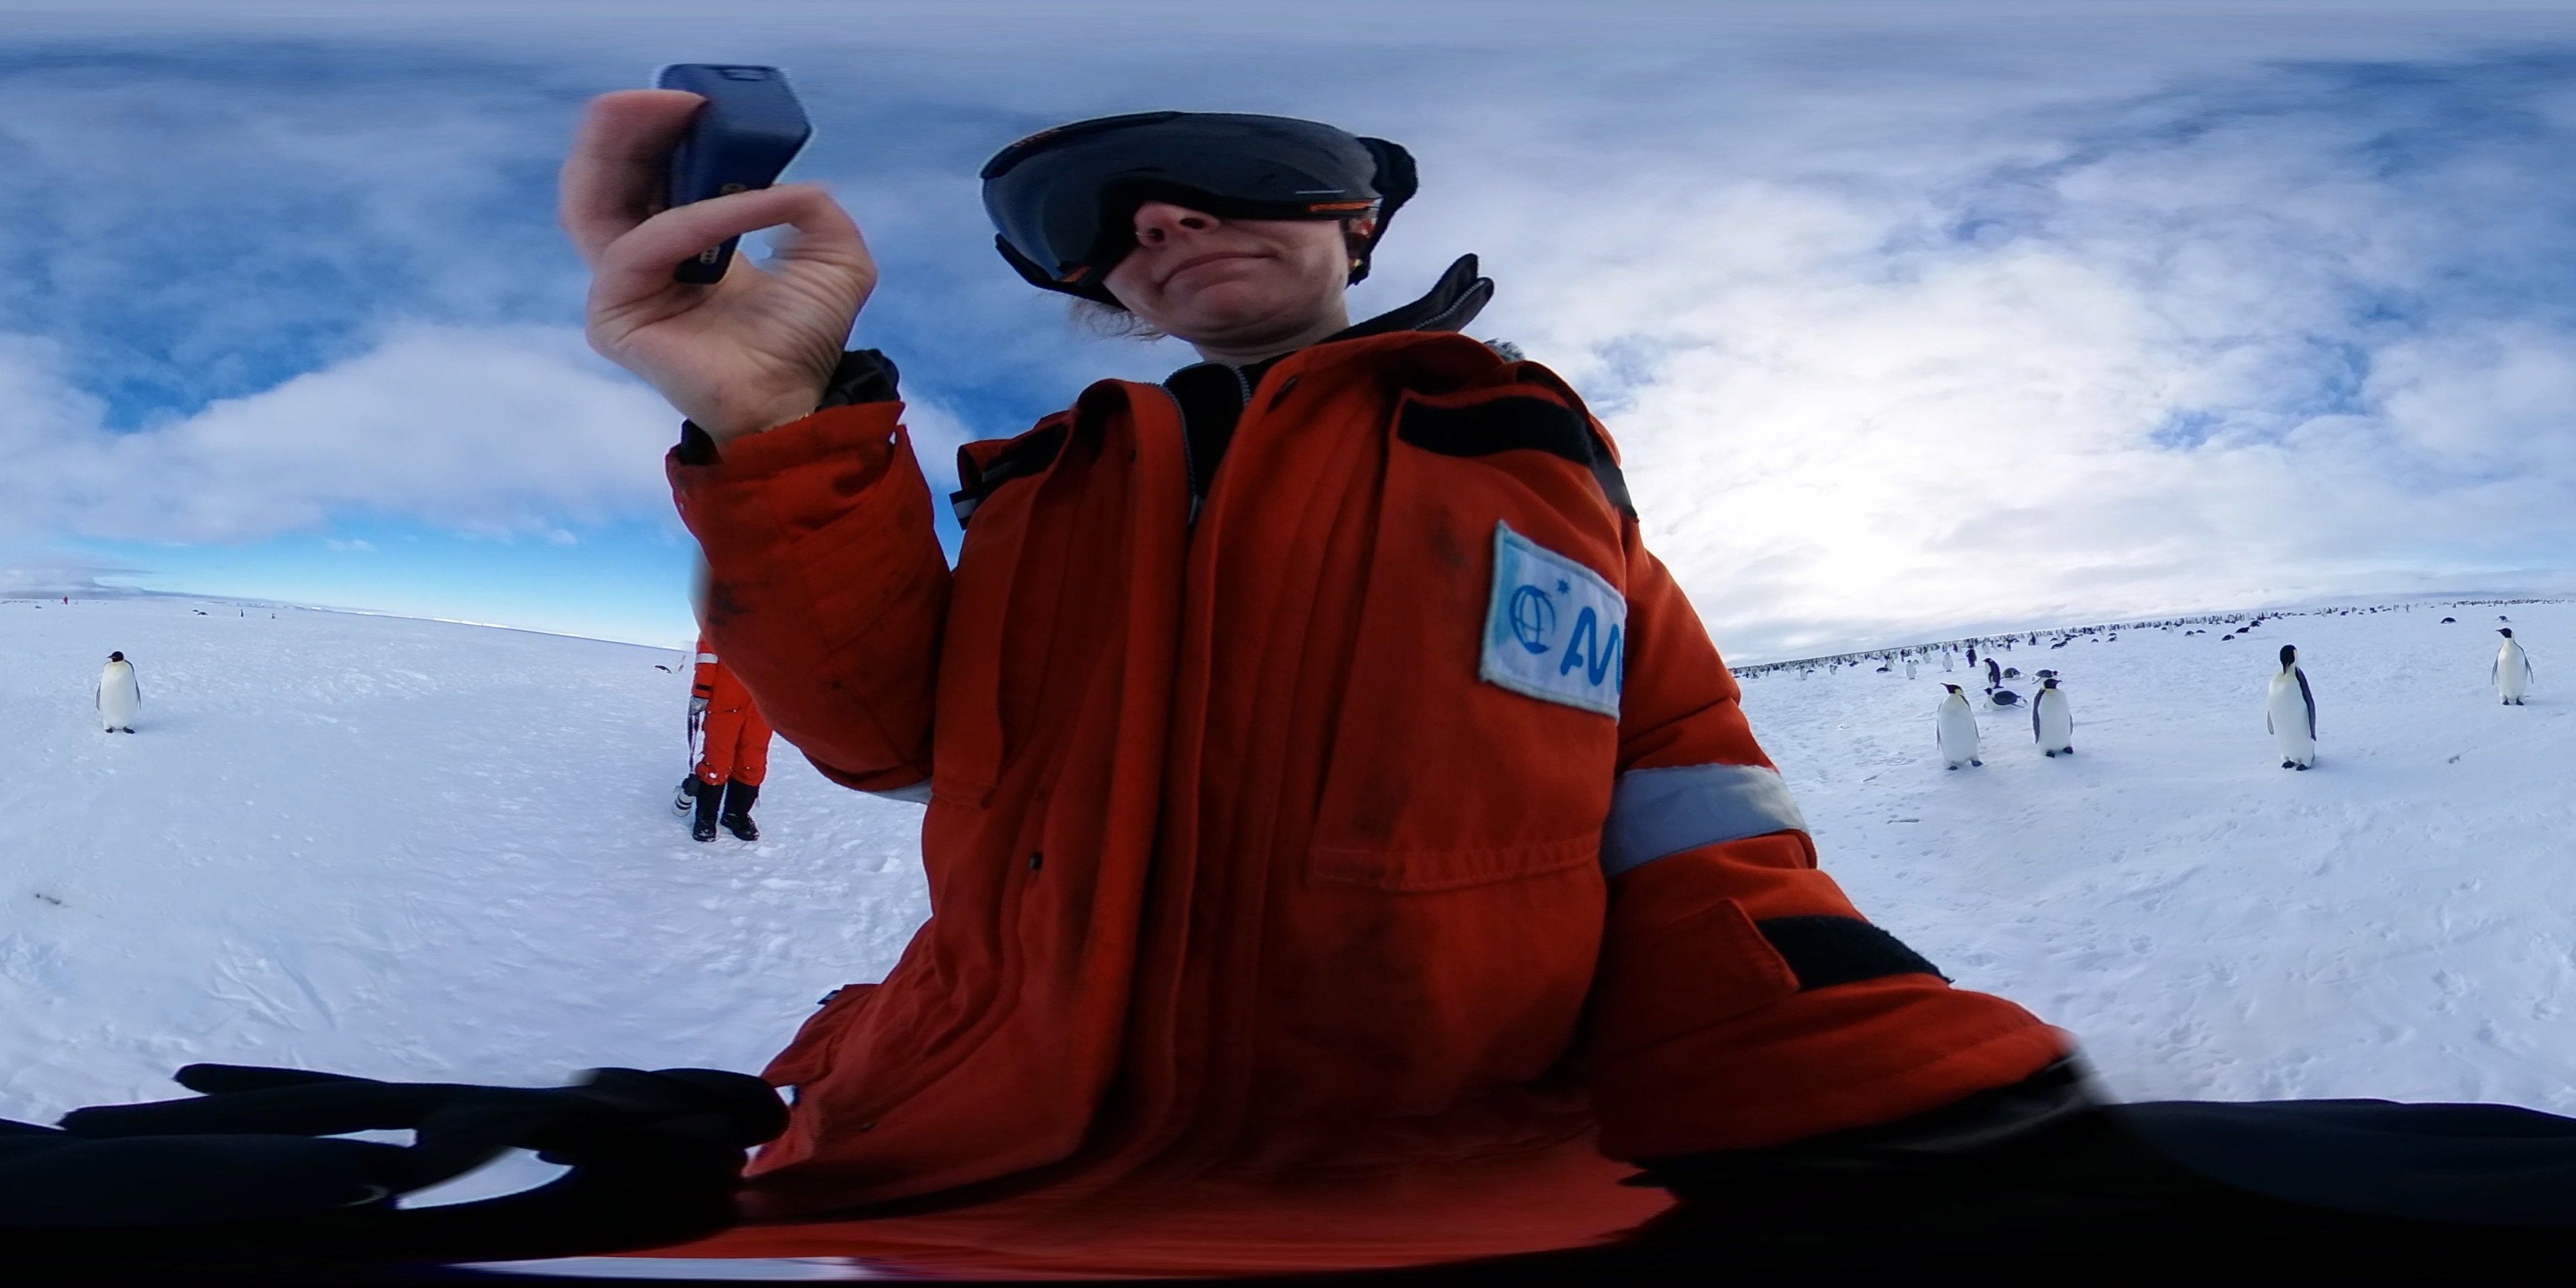adult_standing_penguin: (2262, 644, 2316, 774), (1932, 683, 1991, 774), (95, 647, 149, 736), (2031, 677, 2081, 759), (2487, 628, 2537, 708), (1980, 655, 2008, 693), (2438, 614, 2458, 626)
adult_toboggan_penguin: (1978, 683, 2032, 711), (1996, 664, 2031, 682), (2034, 669, 2065, 682), (652, 662, 675, 677)
researcher: (563, 34, 1937, 1288), (672, 590, 797, 849)
